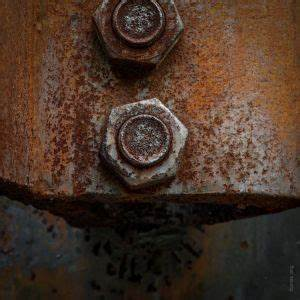bolt_b: (98, 97, 189, 191), (91, 1, 185, 72)
